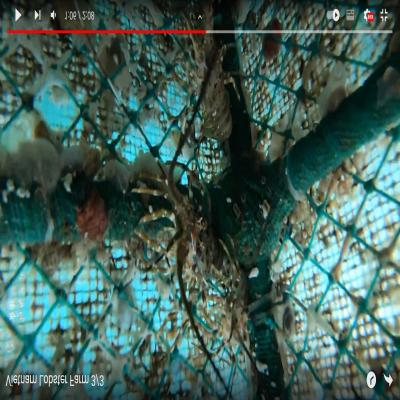lobster: (172, 185, 228, 285), (193, 17, 232, 137)
